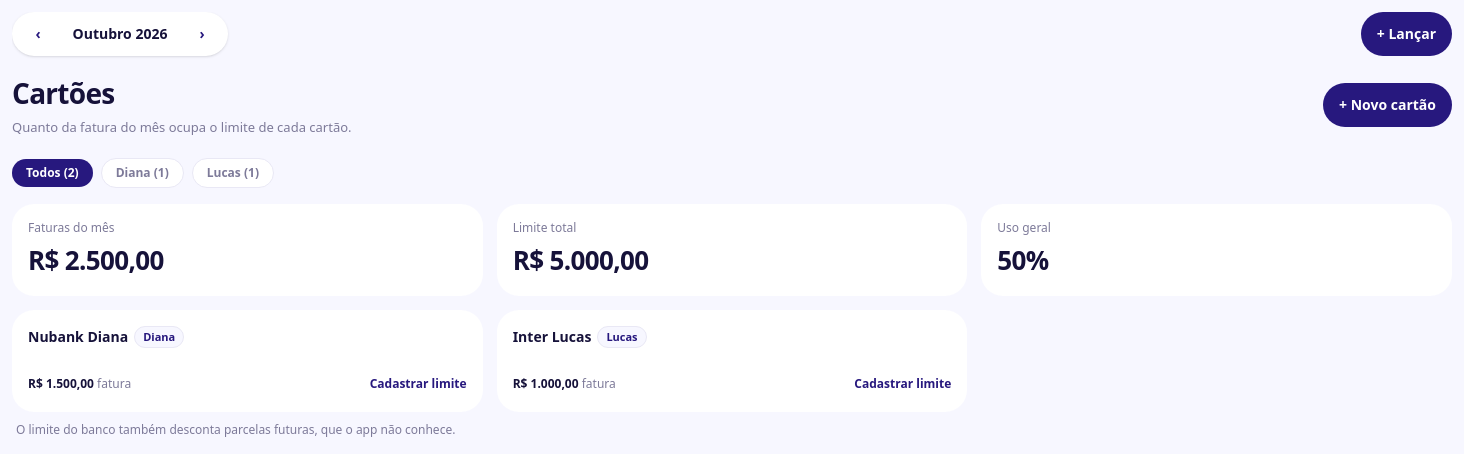
Test: CartoesPage › filtraPorTitularERecalculaTotais
Expected: the button "Lucas (1)" is shown, [192,158,274,188]
Expected: the text "R$ 2.500,00" is shown, [28,242,164,278]
Clica no filtro Diana
Click the button "Diana (1)" at x=142, y=172, box [101,158,184,188]
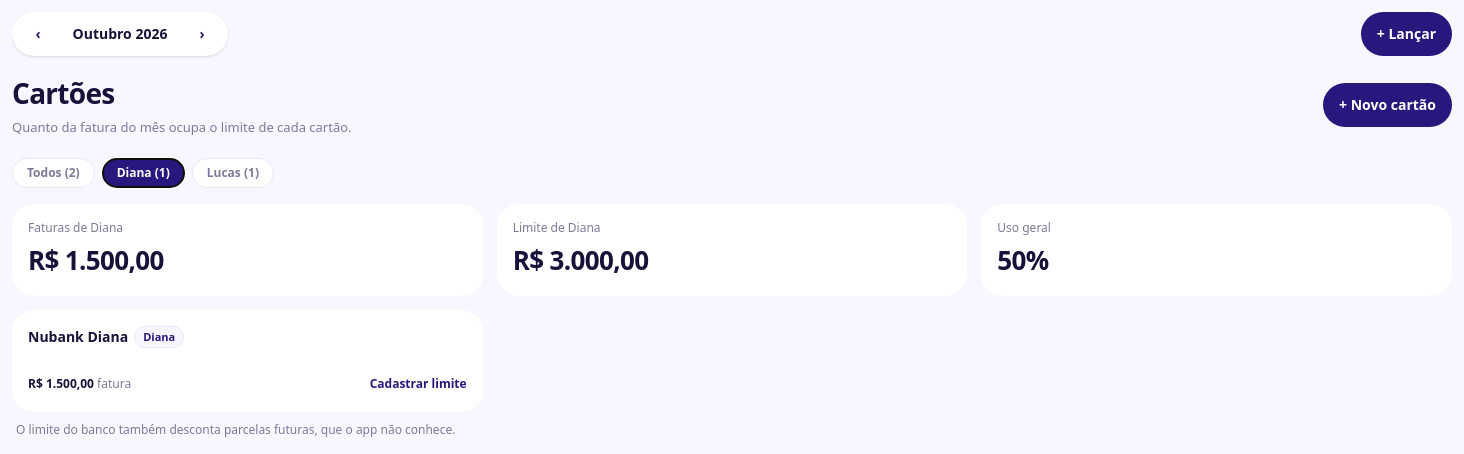
Expected: the element "Faturas de Diana" shows "1.500,00", [28,242,164,278]
Expected: the element "Limite de Diana" shows "3.000,00", [513,242,648,278]
Expected: the heading "Inter Lucas" is gone
